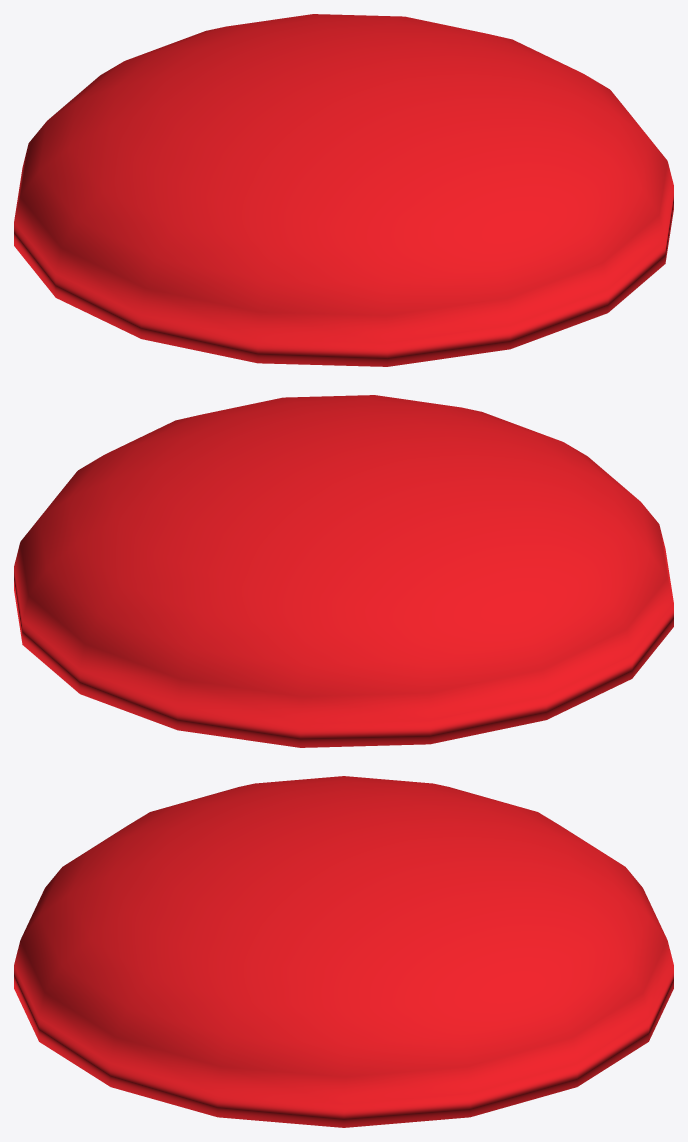
Rendered from button.fbx.
The picture shows the model from 3 angles, top to bottom: view 1: azimuth 30°, elevation 25°; view 2: azimuth 150°, elevation 25°; view 3: azimuth 270°, elevation 25°; orthographic projection.
Visible parts, largest first — view 1: Sphere; view 2: Sphere; view 3: Sphere.
Part boxes in pixels (left/top/right/bottom): Sphere: left=14, top=14, right=673, bottom=366; Sphere: left=14, top=395, right=673, bottom=747; Sphere: left=14, top=776, right=673, bottom=1127.
Size of the model in its own units: 0.84 by 0.2144 by 0.84.
